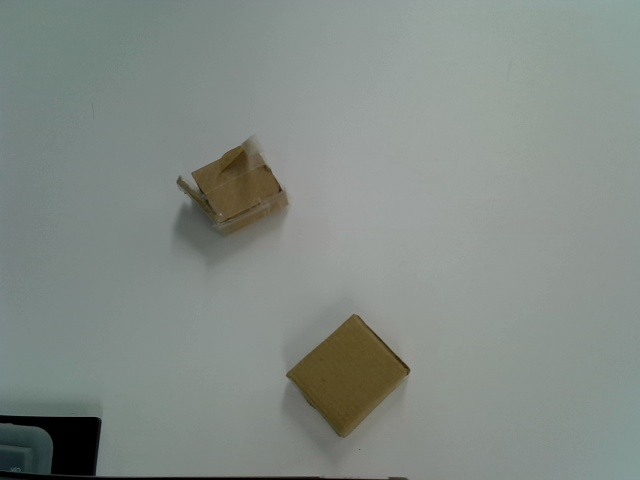defect: (177, 132, 288, 238)
normal: (285, 313, 411, 438)
